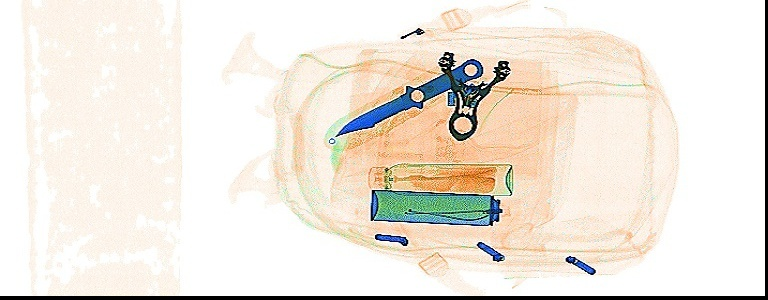knife: (334, 57, 483, 137)
pressure: (366, 187, 522, 228), (365, 159, 513, 196)
slingshot: (436, 44, 512, 139)
